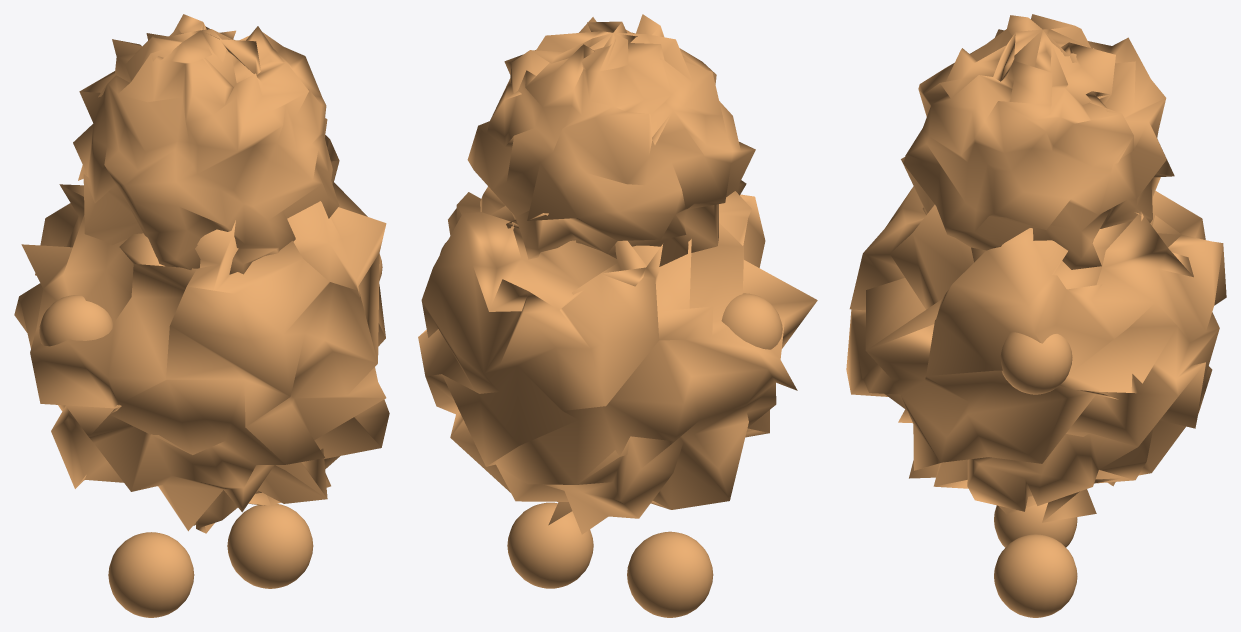
File: clay_clock_chicken.glb
The picture shows the model from 3 angles, left to right: view 1: azimuth 30°, elevation 25°; view 2: azimuth 150°, elevation 25°; view 3: azimuth 270°, elevation 25°; orthographic projection. The views are drawn at different scales.
Visible parts, largest first — view 1: clock; view 2: clock; view 3: clock.
Part boxes in pixels (x1,y1,x2,y2): clock: [14, 14, 389, 617]; clock: [418, 14, 817, 617]; clock: [846, 14, 1226, 617].
Size of the model in its own units: 1.28 by 2.01 by 1.25.
